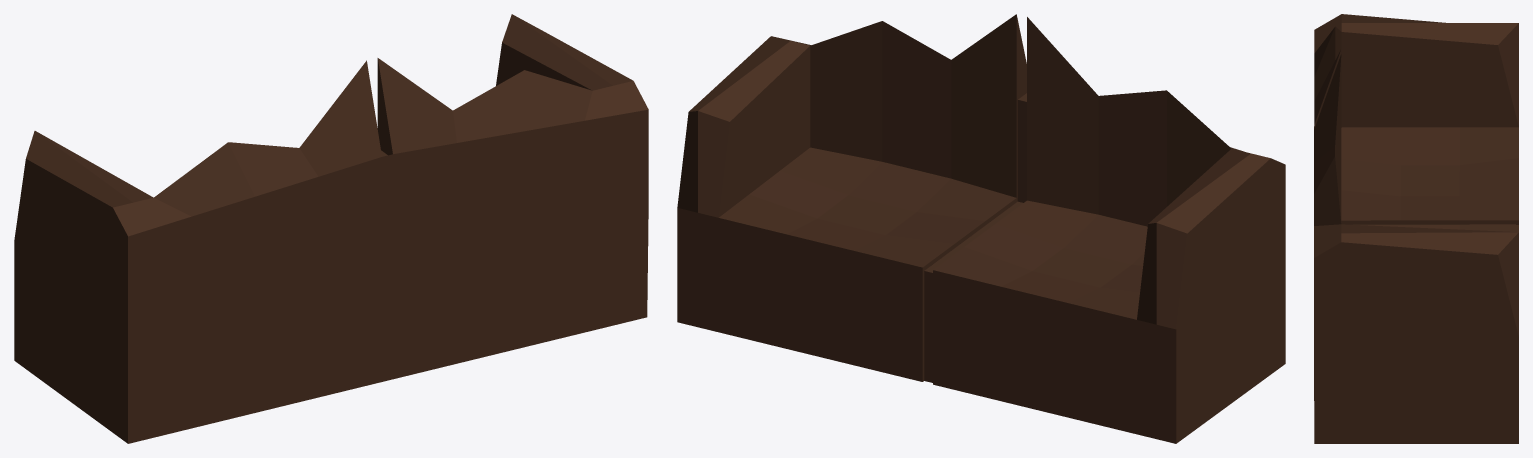
Rendered from barCouch1.fbx.
3 renders of one model, left to right at view 1: azimuth 30°, elevation 25°; view 2: azimuth 150°, elevation 25°; view 3: azimuth 270°, elevation 25°, orthographic. The views are drawn at different scales.
Visible parts, largest first — view 1: couch.001; view 2: couch.001; view 3: couch.001.
Boxes of the visible parts, x1=… form: couch.001: x1=14, y1=14, x2=648, y2=443; couch.001: x1=677, y1=14, x2=1285, y2=443; couch.001: x1=1314, y1=14, x2=1518, y2=443.
Size of the model in its own units: 0.7348 by 0.419 by 0.2787.
